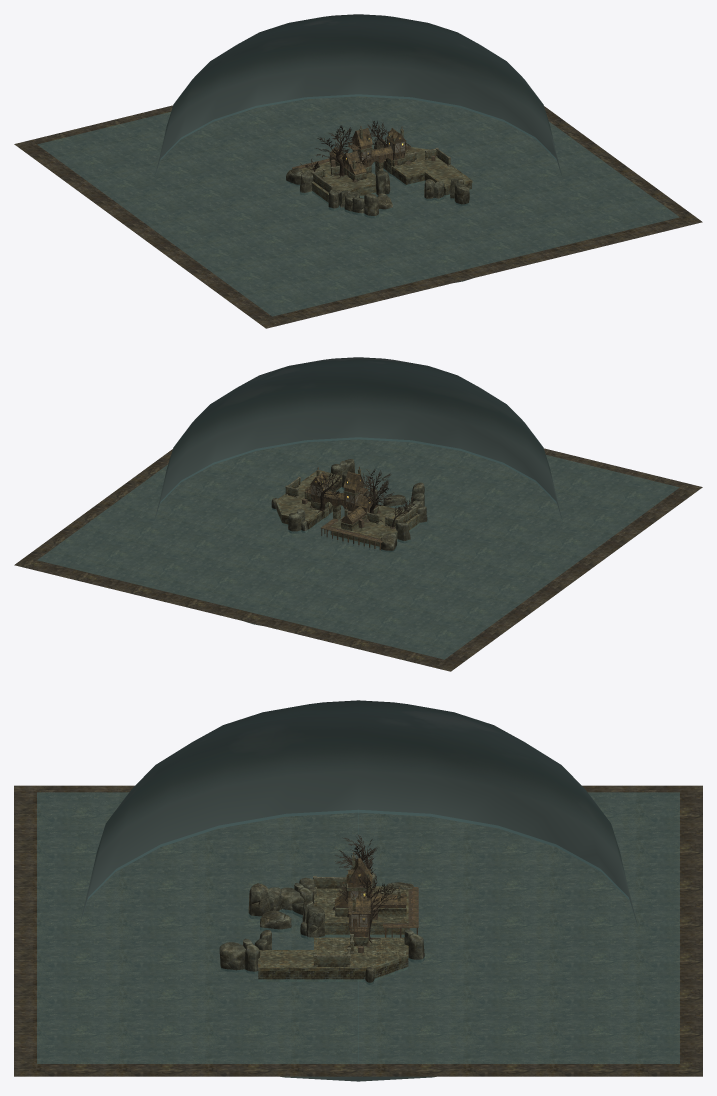
The picture shows the model from 3 angles, top to bottom: view 1: azimuth 30°, elevation 25°; view 2: azimuth 150°, elevation 25°; view 3: azimuth 270°, elevation 25°; orthographic projection. The views are drawn at different scales.
Parts seen in each view (by area): view 1: floor, waterplane, skydome, floor_2, house2_2, house1; view 2: floor, waterplane, skydome, floor_2, house2_2, dock; view 3: floor, waterplane, skydome, floor_2, house1, house2_2, rock5_1, sidebuild2_1, rock7, dock, rock8.
Boxes of the visible parts, left/top/right/bottom form: floor: left=14, top=96, right=702, bottom=328; waterplane: left=37, top=94, right=678, bottom=316; skydome: left=154, top=14, right=562, bottom=282; floor_2: left=300, top=146, right=472, bottom=204; house2_2: left=342, top=128, right=372, bottom=177; house1: left=386, top=127, right=406, bottom=166; floor: left=14, top=439, right=702, bottom=671; waterplane: left=38, top=437, right=679, bottom=659; skydome: left=154, top=357, right=562, bottom=625; floor_2: left=275, top=470, right=420, bottom=548; house2_2: left=343, top=471, right=373, bottom=519; dock: left=321, top=518, right=383, bottom=552; floor: left=14, top=785, right=702, bottom=1076; waterplane: left=37, top=792, right=679, bottom=1063; skydome: left=79, top=700, right=637, bottom=1081; floor_2: left=258, top=886, right=408, bottom=981; house1: left=348, top=898, right=370, bottom=945; house2_2: left=346, top=858, right=372, bottom=904; rock5_1: left=219, top=942, right=245, bottom=972; sidebuild2_1: left=371, top=893, right=406, bottom=916; rock7: left=248, top=883, right=270, bottom=919; dock: left=383, top=887, right=418, bottom=937; rock8: left=260, top=910, right=291, bottom=932.
Bounding box in the file's own units: 6.57 × 2.35 × 6.57.
Materials: 15 (14 with a texture image).
